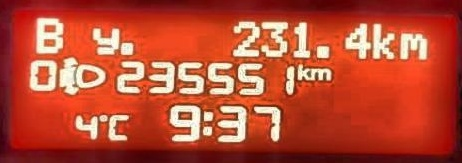-: (313, 44, 329, 59), (118, 41, 133, 55)
0: (27, 58, 57, 91)
1: (290, 20, 311, 58), (283, 64, 295, 96)
2: (229, 19, 259, 56), (114, 58, 145, 93)
3: (214, 104, 247, 143), (259, 20, 289, 57), (146, 59, 173, 92)
4: (342, 21, 369, 59), (71, 113, 99, 140)
5: (206, 60, 235, 95), (235, 61, 264, 94), (177, 61, 204, 94)
7: (250, 103, 281, 142)
9: (166, 103, 200, 142)
X: (33, 15, 64, 54), (397, 31, 428, 60), (88, 25, 119, 54), (370, 21, 394, 58), (106, 113, 131, 141), (308, 66, 332, 81), (201, 110, 214, 135), (294, 63, 308, 80)
